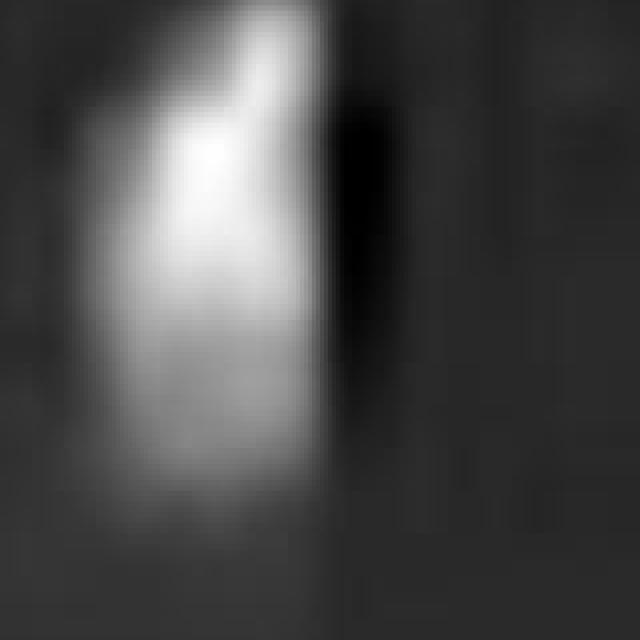person: (33, 1, 341, 556)
